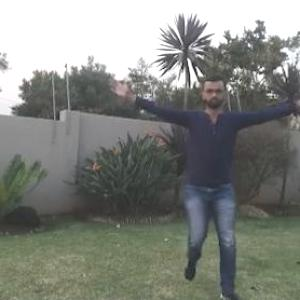takeoff: (109, 86, 299, 292)
